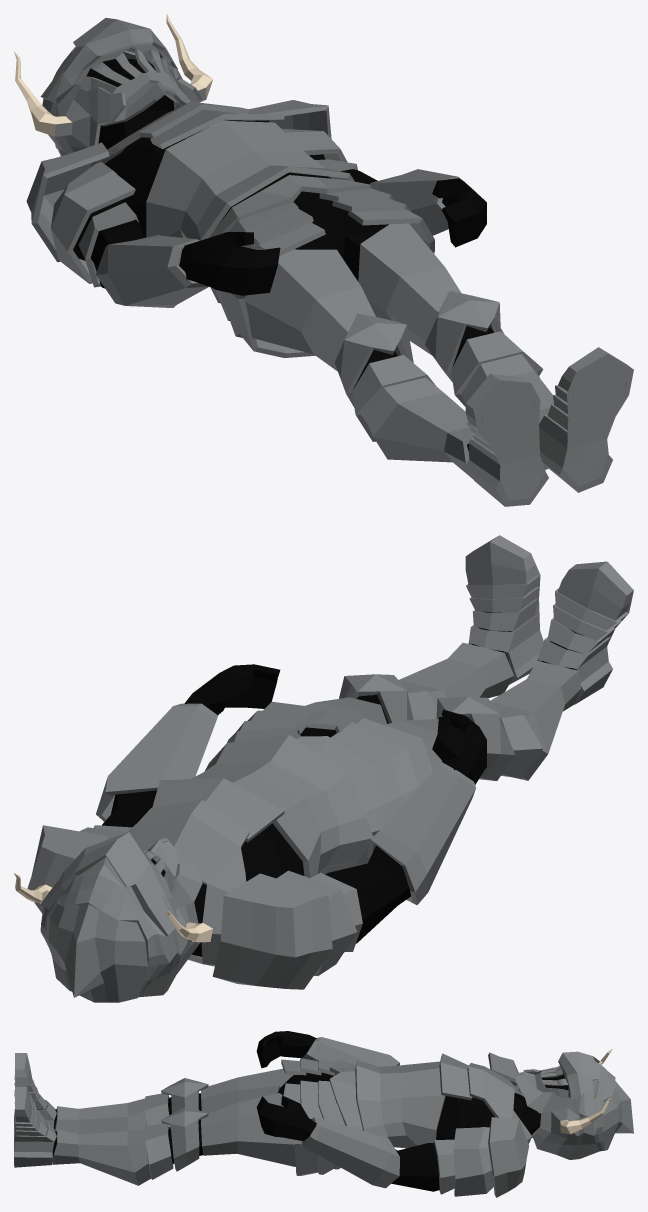
The model's file is weAsterATT.fbx.
3 renders of one model, top to bottom at view 1: azimuth 30°, elevation 25°; view 2: azimuth 150°, elevation 25°; view 3: azimuth 270°, elevation 25°, orthographic. The views are drawn at different scales.
Visible parts, largest first — view 1: solo; view 2: solo; view 3: solo.
Boxes of the visible parts, <box> form: solo: <box>14,14,633,506</box>; solo: <box>14,535,633,1002</box>; solo: <box>14,1031,633,1197</box>.
Size of the model in its own units: 92.9 by 49.74 by 242.
